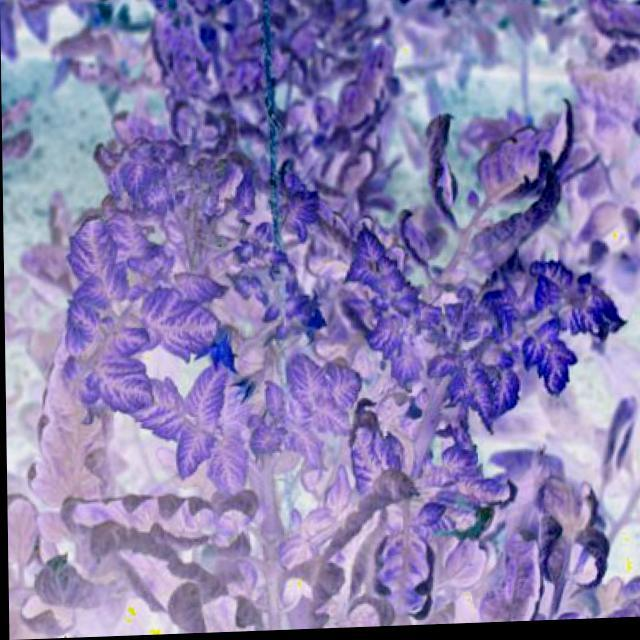Tomato healthy leaf: (520, 258, 620, 344), (44, 219, 126, 317), (128, 281, 218, 365), (330, 234, 414, 314), (461, 329, 518, 442), (89, 349, 162, 424), (514, 320, 578, 402), (299, 366, 361, 439), (181, 351, 224, 446), (203, 420, 244, 502), (285, 344, 328, 422), (344, 426, 396, 489), (171, 429, 212, 497), (370, 310, 406, 365)
